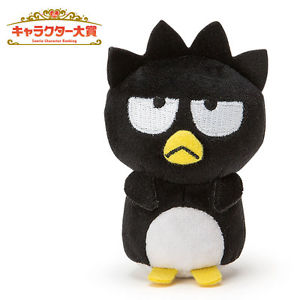batsumaru: (107, 19, 269, 287)
